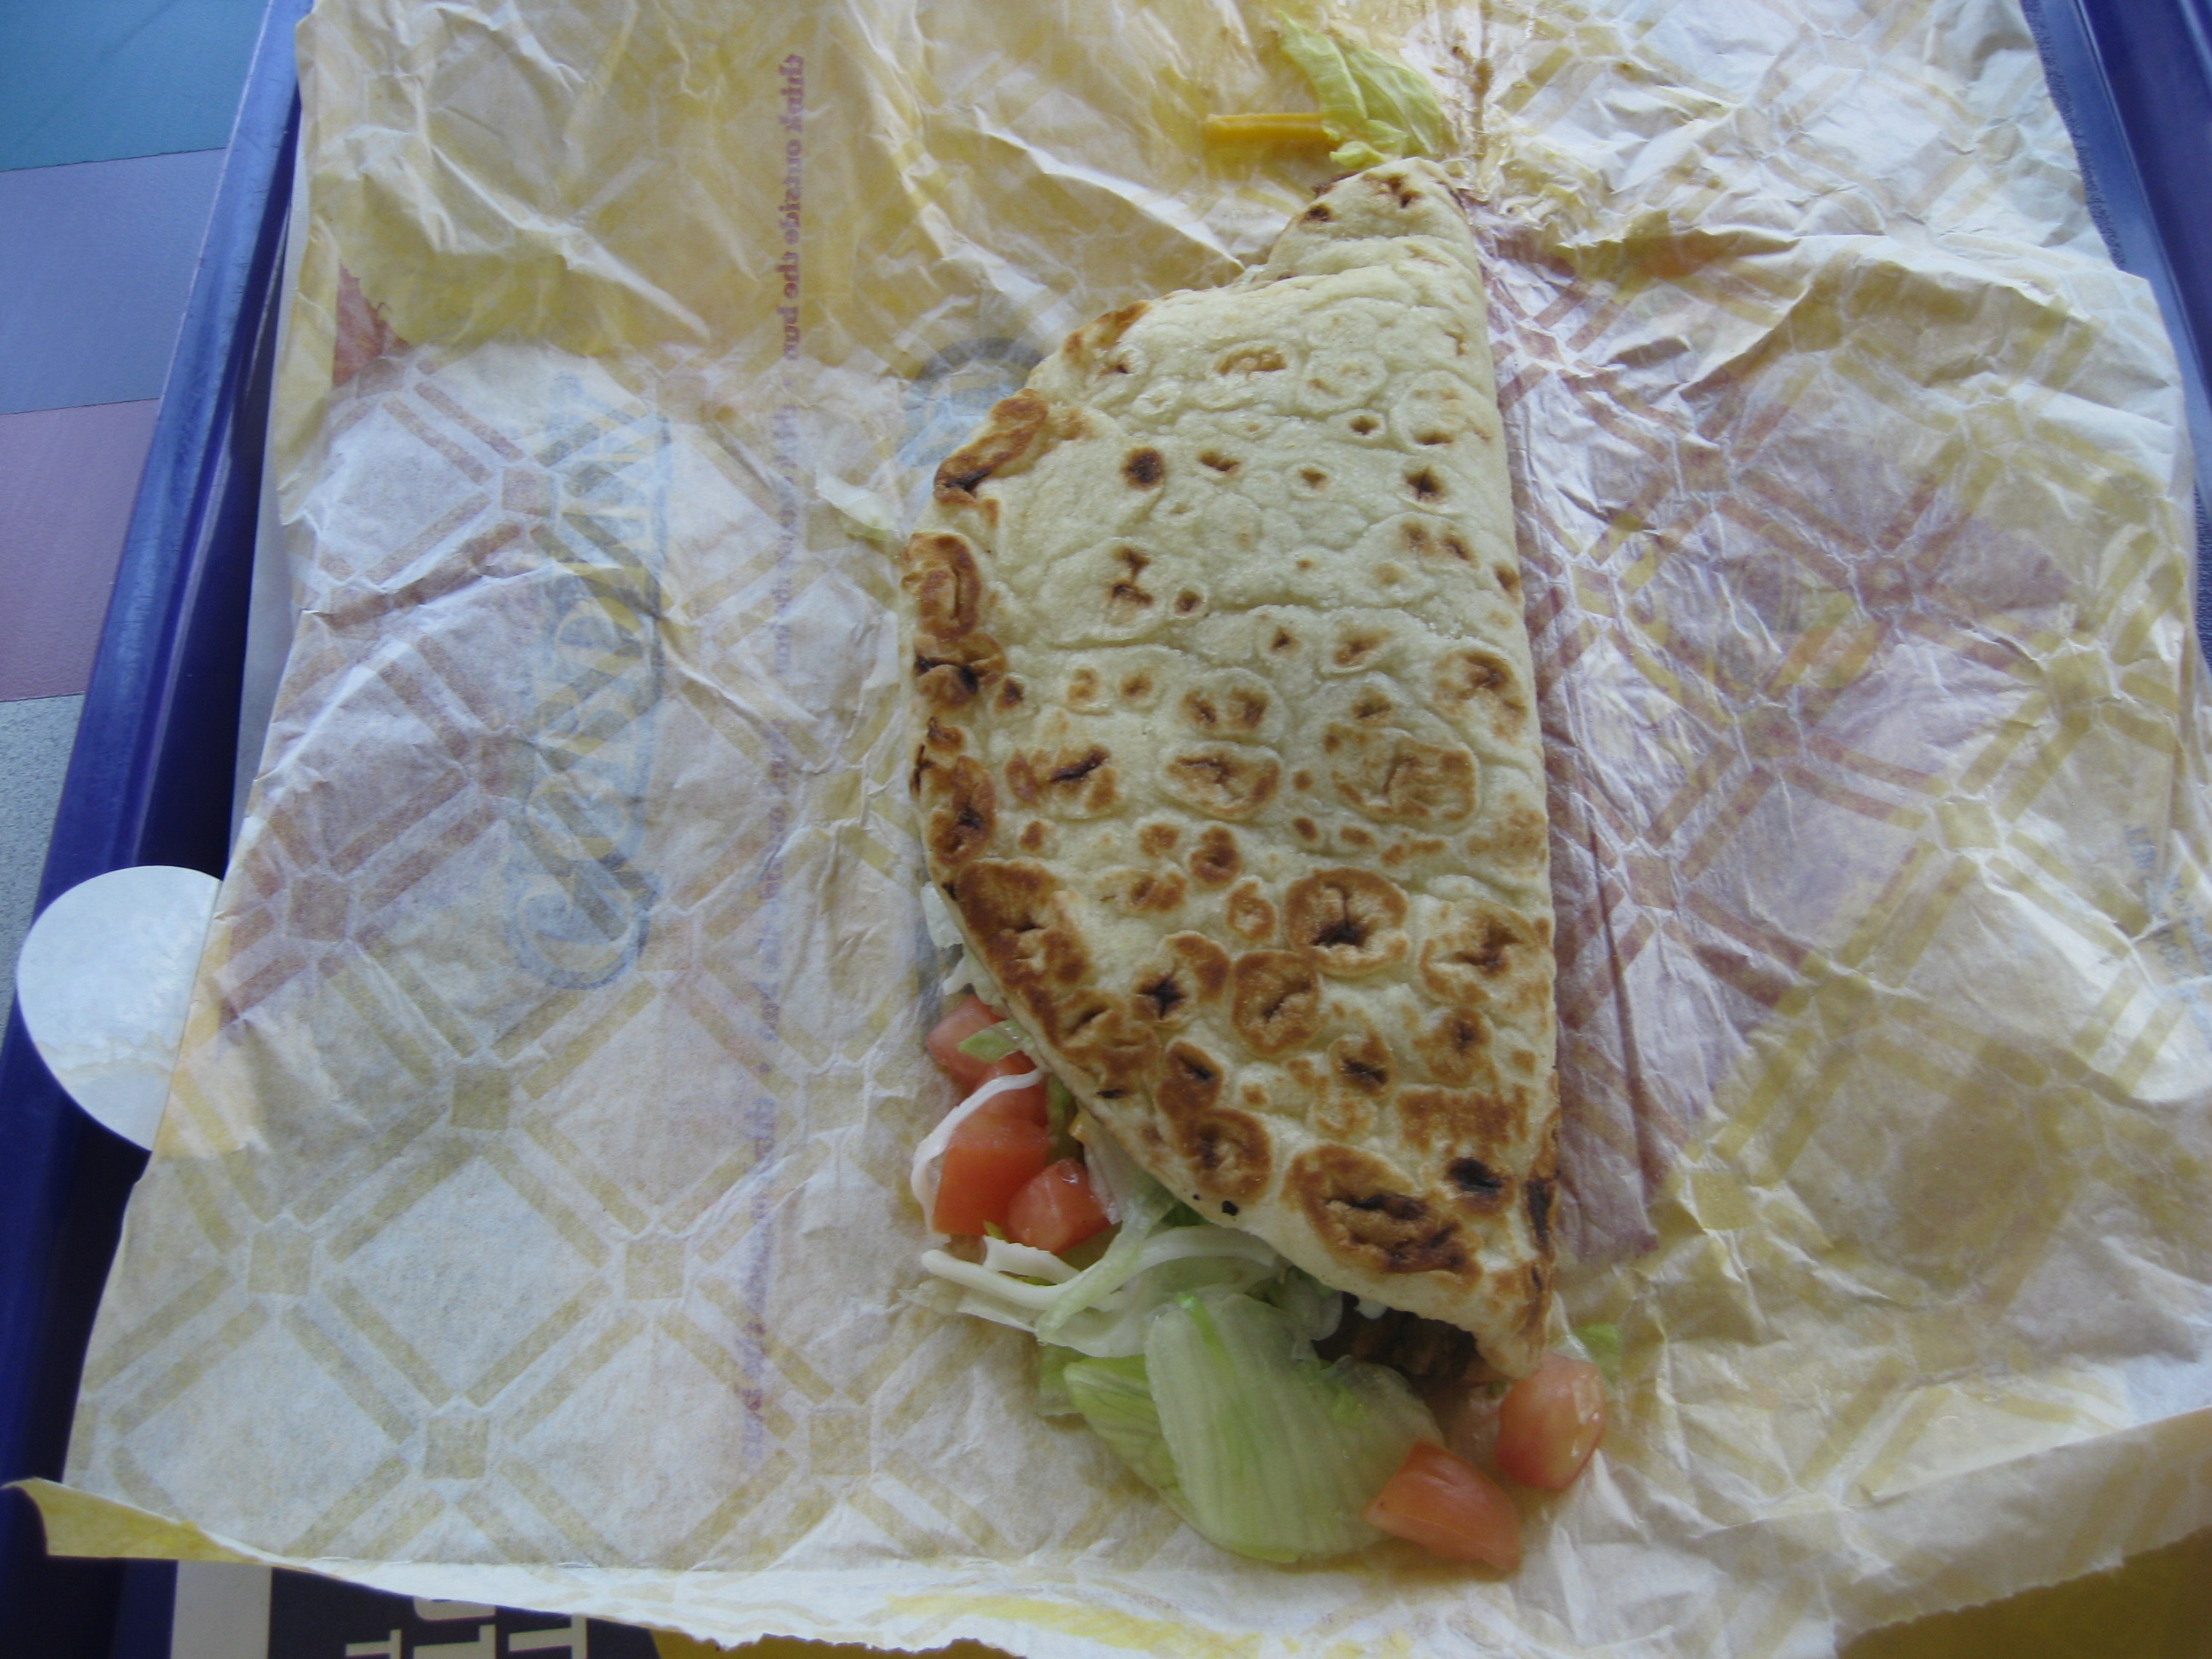taco: (825, 119, 1798, 1559)
